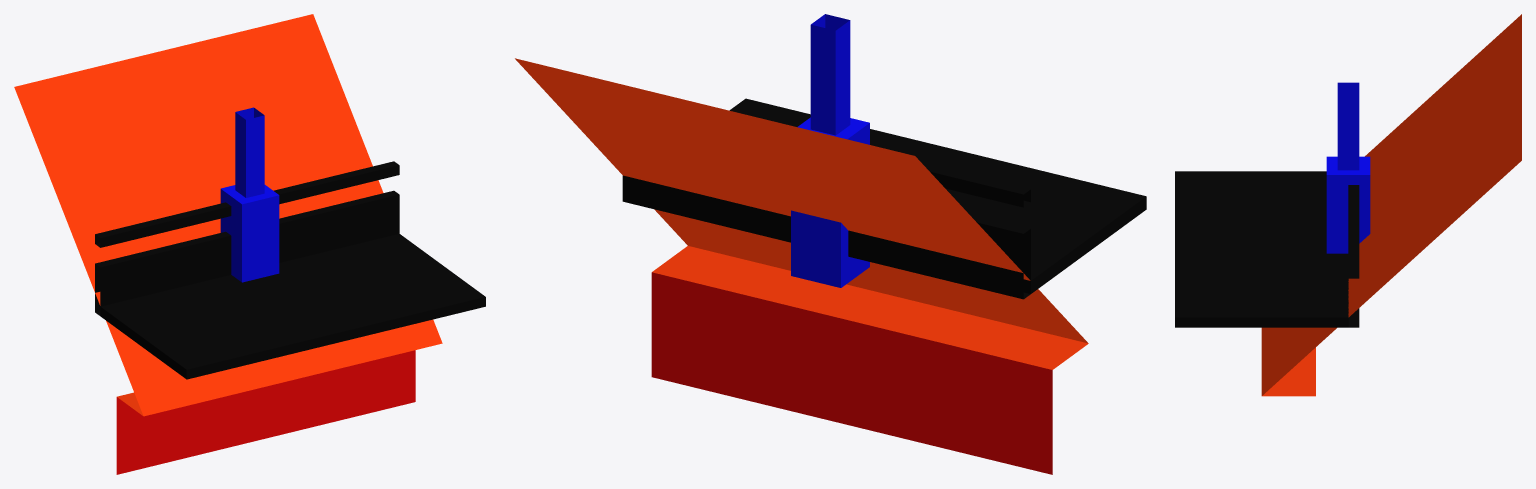
File: None_S_P_E_E_S_P_E_E_BigStrut.fbx
The picture shows the model from 3 angles, left to right: view 1: azimuth 30°, elevation 25°; view 2: azimuth 150°, elevation 25°; view 3: azimuth 270°, elevation 25°; orthographic projection. The views are drawn at different scales.
Parts seen in each view (by area): view 1: None_S_P_E_E_S_P_E_E_BigStrut; view 2: None_S_P_E_E_S_P_E_E_BigStrut; view 3: None_S_P_E_E_S_P_E_E_BigStrut.
Boxes of the visible parts, x1,y1,x2,y2 form: None_S_P_E_E_S_P_E_E_BigStrut: [14, 14, 485, 474]; None_S_P_E_E_S_P_E_E_BigStrut: [515, 14, 1146, 474]; None_S_P_E_E_S_P_E_E_BigStrut: [1175, 14, 1521, 396].
Bounding box in the file's own units: 100 × 100 × 100.
